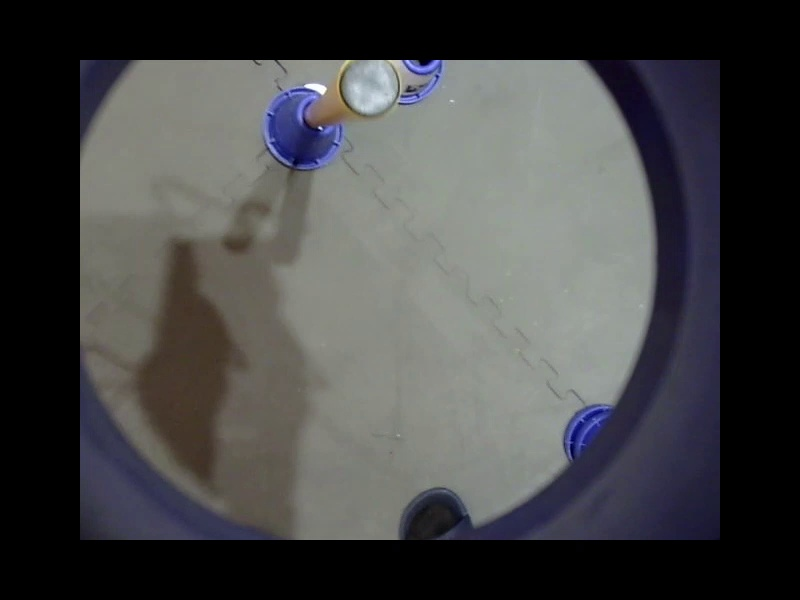tip: (333, 59, 404, 121)
